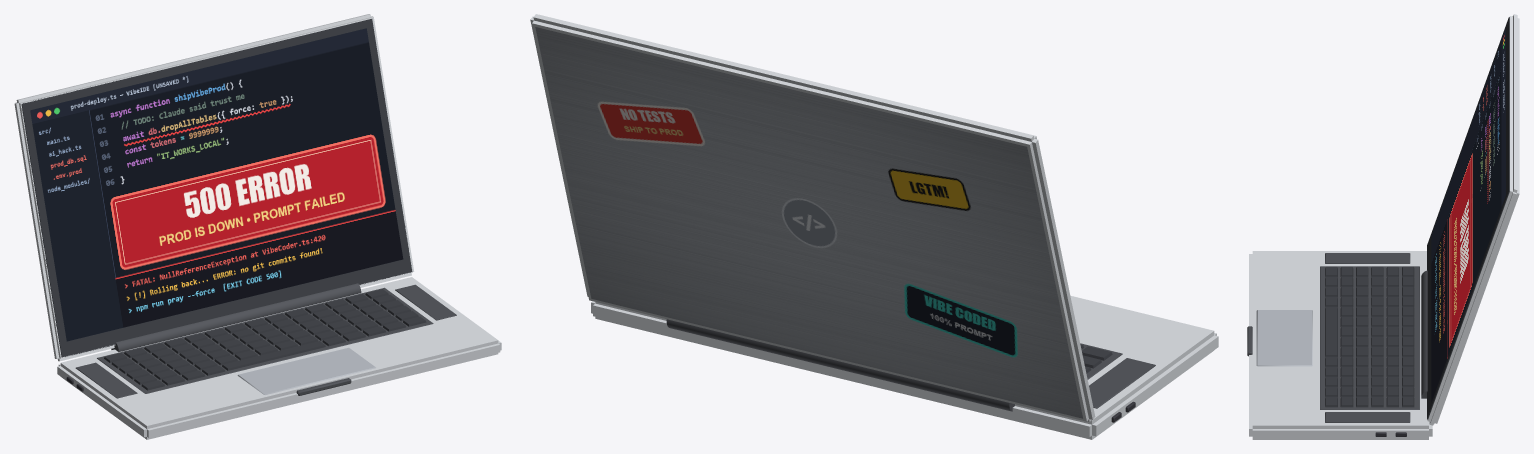
File: proj_laptop.glb
3 views of the same model, side by side, from view 1: azimuth 30°, elevation 25°; view 2: azimuth 150°, elevation 25°; view 3: azimuth 270°, elevation 25° (orthographic). The views are drawn at different scales.
Visible parts, largest first — view 1: proj_laptop; view 2: proj_laptop; view 3: proj_laptop.
Part boxes in pixels (x1,y1,x2,y2): proj_laptop: (14,14,501,439); proj_laptop: (530,14,1218,439); proj_laptop: (1247,14,1519,439).
Size of the model in its own units: 0.3798 by 0.2473 by 0.2433.
8 materials, 2 textured.
